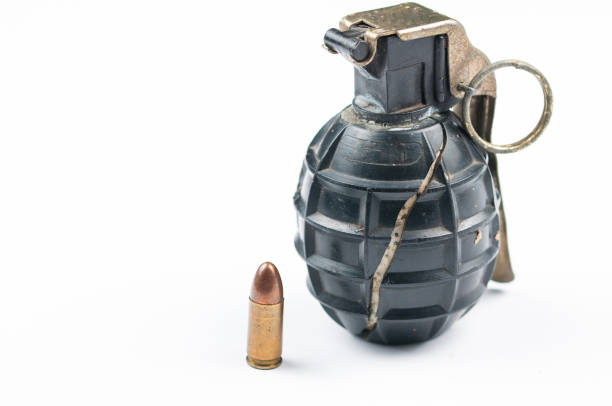e1: (293, 2, 556, 348)
